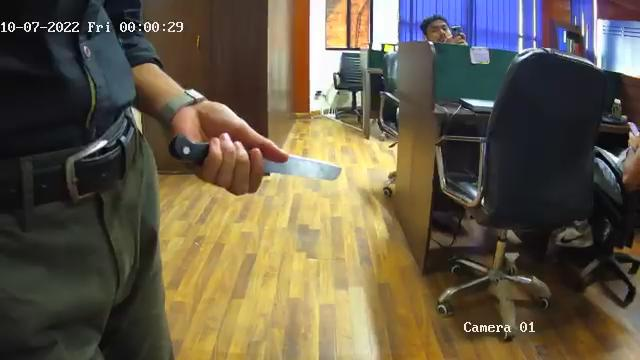knives: (168, 130, 347, 200)
